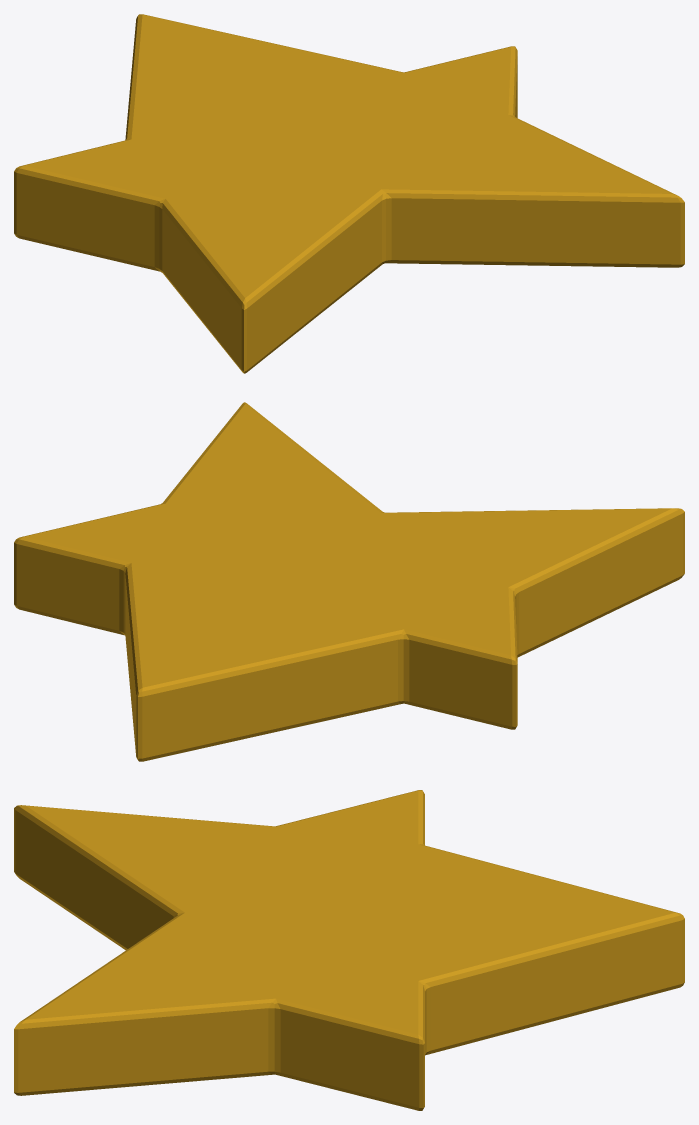
3 renders of one model, top to bottom at view 1: azimuth 30°, elevation 25°; view 2: azimuth 150°, elevation 25°; view 3: azimuth 270°, elevation 25°, orthographic. The views are drawn at different scales.
Parts seen in each view (by area): view 1: Star Body; view 2: Star Body; view 3: Star Body.
Boxes of the visible parts, x1=… form: Star Body: x1=14, y1=14, x2=684, y2=373; Star Body: x1=14, y1=402, x2=684, y2=761; Star Body: x1=14, y1=790, x2=684, y2=1110.
Size of the model in its own units: 0.0143 by 0.002 by 0.0161.
